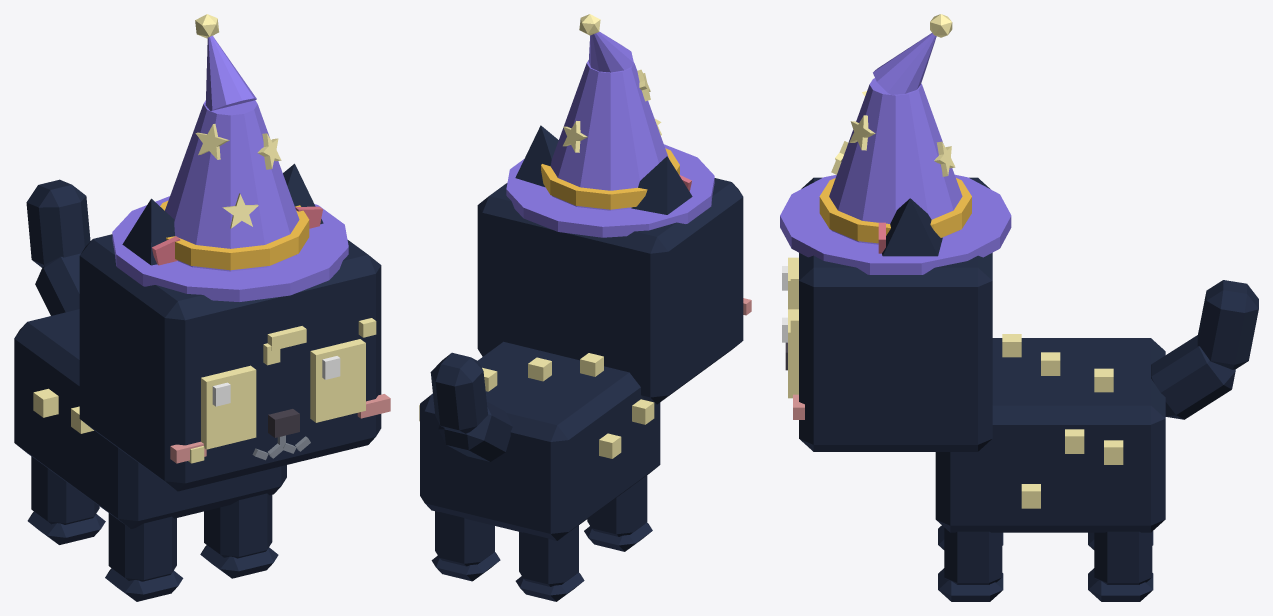
File: CatCafe_Cat_Midnight.fbx
3 views of the same model, side by side, from view 1: azimuth 30°, elevation 25°; view 2: azimuth 150°, elevation 25°; view 3: azimuth 270°, elevation 25° (orthographic). The views are drawn at different scales.
Visible parts, largest first — view 1: CatCafe_Cat_Midnight_Head, CatCafe_Cat_Midnight_Prop, CatCafe_Cat_Midnight_Body, CatCafe_Cat_Midnight_Tail, CatCafe_Cat_Midnight_LegF2, CatCafe_Cat_Midnight_LegF1, CatCafe_Cat_Midnight_Eye1, CatCafe_Cat_Midnight_Eye2, CatCafe_Cat_Midnight_LegB2, CatCafe_Cat_Midnight_EarR, CatCafe_Cat_Midnight_EarL; view 2: CatCafe_Cat_Midnight_Head, CatCafe_Cat_Midnight_Body, CatCafe_Cat_Midnight_Prop, CatCafe_Cat_Midnight_Tail, CatCafe_Cat_Midnight_LegB2, CatCafe_Cat_Midnight_LegB1, CatCafe_Cat_Midnight_LegF2, CatCafe_Cat_Midnight_EarR, CatCafe_Cat_Midnight_EarL; view 3: CatCafe_Cat_Midnight_Body, CatCafe_Cat_Midnight_Head, CatCafe_Cat_Midnight_Prop, CatCafe_Cat_Midnight_Tail, CatCafe_Cat_Midnight_LegF1, CatCafe_Cat_Midnight_LegB1, CatCafe_Cat_Midnight_EarL, CatCafe_Cat_Midnight_Eye1.
Part boxes in pixels (box(x1,y1,x2,y2)): CatCafe_Cat_Midnight_Head: box(79, 234, 390, 491); CatCafe_Cat_Midnight_Prop: box(112, 14, 348, 301); CatCafe_Cat_Midnight_Body: box(14, 309, 286, 528); CatCafe_Cat_Midnight_Tail: box(26, 179, 90, 315); CatCafe_Cat_Midnight_LegF2: box(105, 513, 183, 601); CatCafe_Cat_Midnight_LegF1: box(200, 493, 278, 578); CatCafe_Cat_Midnight_Eye1: box(310, 339, 365, 422); CatCafe_Cat_Midnight_Eye2: box(201, 365, 256, 449); CatCafe_Cat_Midnight_LegB2: box(27, 456, 105, 544); CatCafe_Cat_Midnight_EarR: box(122, 198, 180, 265); CatCafe_Cat_Midnight_EarL: box(283, 163, 323, 228); CatCafe_Cat_Midnight_Head: box(477, 178, 751, 404); CatCafe_Cat_Midnight_Body: box(419, 341, 660, 540); CatCafe_Cat_Midnight_Prop: box(506, 14, 714, 237); CatCafe_Cat_Midnight_Tail: box(430, 352, 512, 461); CatCafe_Cat_Midnight_LegB2: box(515, 525, 584, 601); CatCafe_Cat_Midnight_LegB1: box(431, 511, 500, 581); CatCafe_Cat_Midnight_LegF2: box(584, 475, 652, 551); CatCafe_Cat_Midnight_EarR: box(631, 156, 692, 214); CatCafe_Cat_Midnight_EarL: box(515, 125, 558, 186); CatCafe_Cat_Midnight_Body: box(935, 334, 1165, 532); CatCafe_Cat_Midnight_Head: box(785, 177, 992, 451); CatCafe_Cat_Midnight_Prop: box(780, 14, 1011, 274); CatCafe_Cat_Midnight_Tail: box(1151, 280, 1258, 419); CatCafe_Cat_Midnight_LegF1: box(938, 527, 1003, 601); CatCafe_Cat_Midnight_LegB1: box(1088, 531, 1153, 601); CatCafe_Cat_Midnight_EarL: box(878, 198, 942, 256); CatCafe_Cat_Midnight_Eye1: box(782, 309, 798, 398).
Size of the model in its own units: 1 by 2.54 by 1.98.
Materials: 1 (1 with a texture image).
